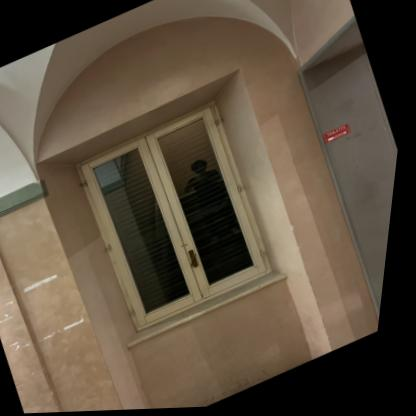Window: (79, 102, 274, 330)
